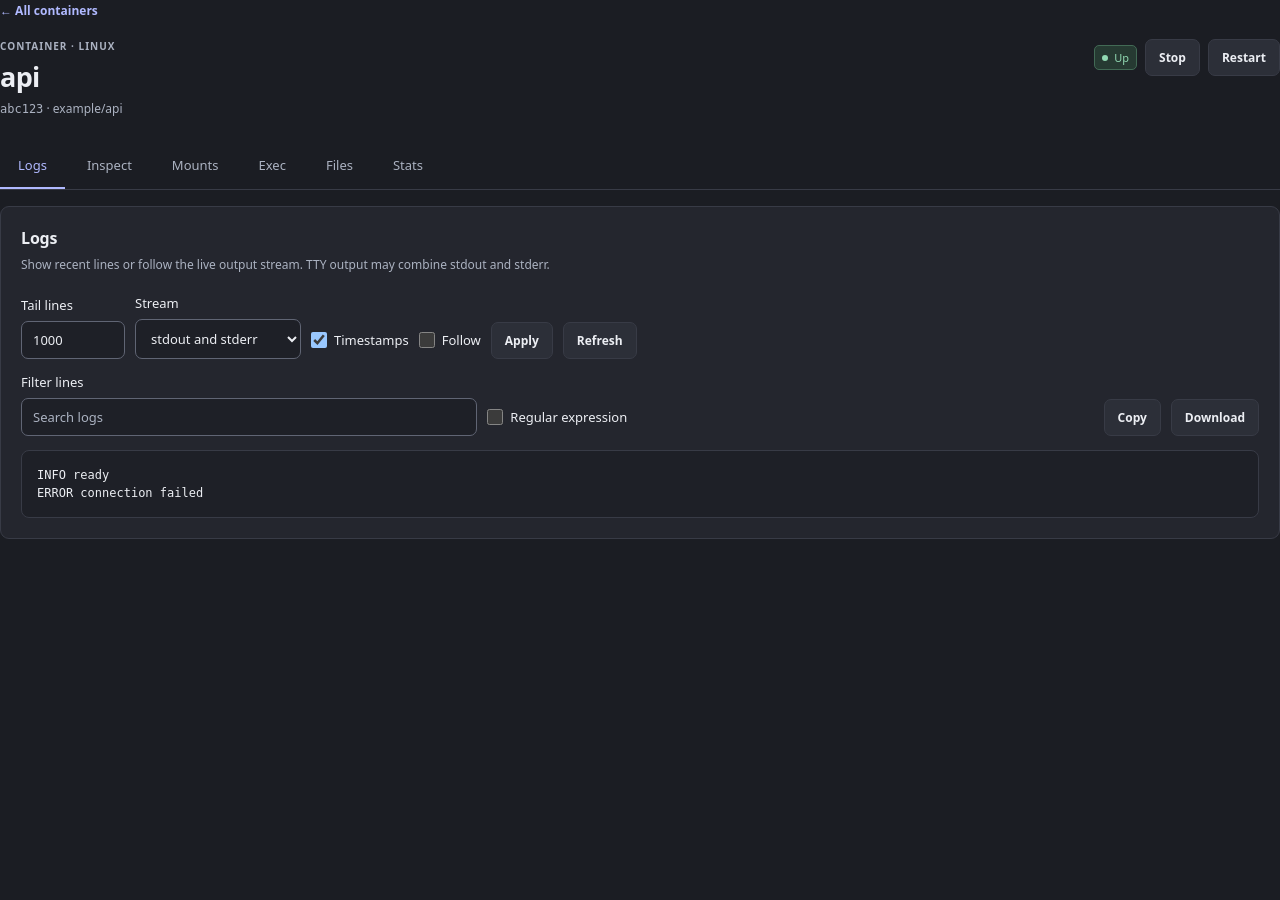
Test: shows structured inspection and mount information, with raw JSON on request
The image size is (1280, 900).
Click the button "Inspect".
click(109, 166)  # box [69,143,150,189]
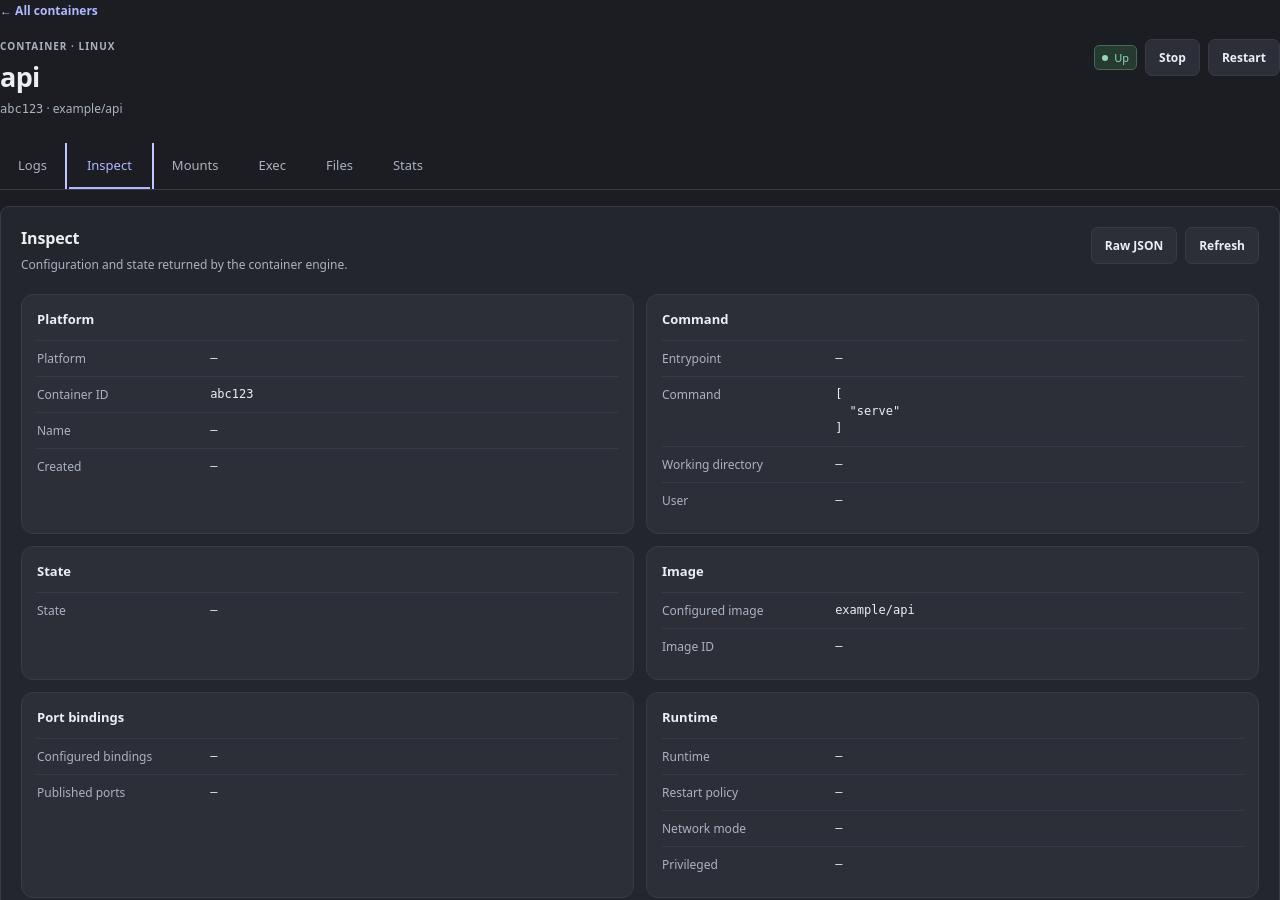
Click the button "Raw JSON".
click(1134, 246)  # box [1091,227,1177,264]
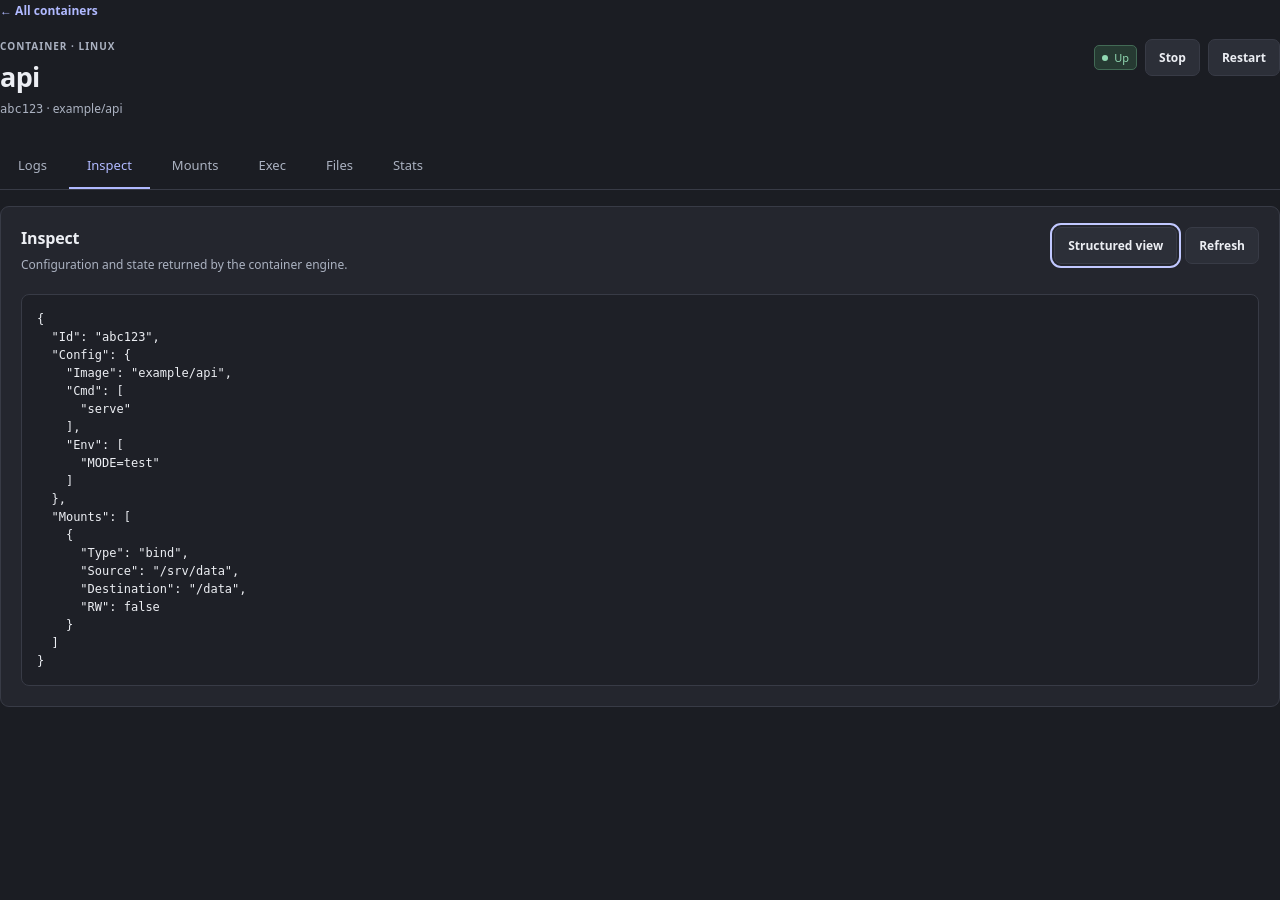
Expected: the text "\"Id\": \"abc123\"" is shown, [37,312,246,668]
Click the button "Mounts".
click(195, 166)  # box [154,143,236,189]
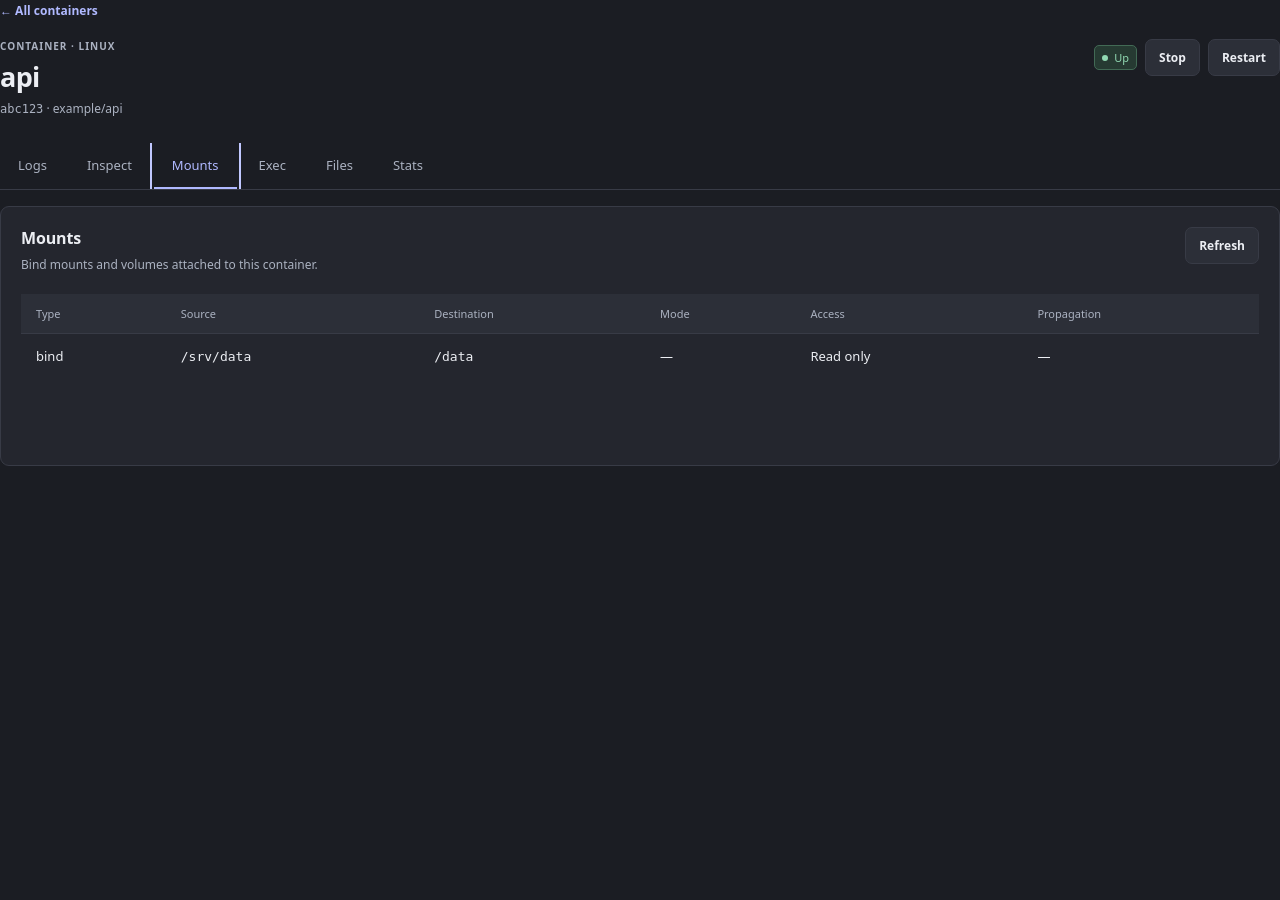
Expected: the text "/srv/data" is shown, [166,334,419,378]
Expected: the text "Read only" is shown, [795,334,1022,378]
